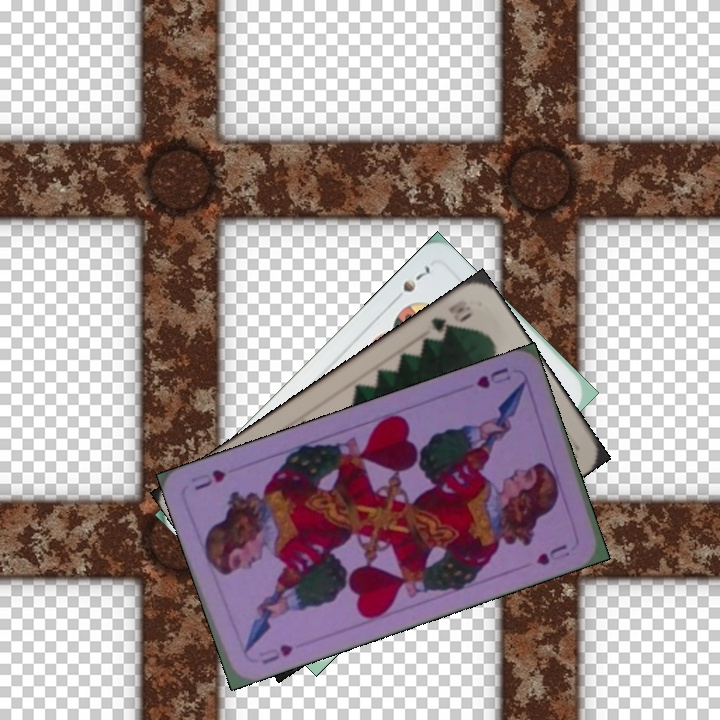G10: (426, 296, 473, 337)
HU: (473, 363, 514, 391), (258, 640, 296, 667)
S7: (398, 262, 435, 295)
